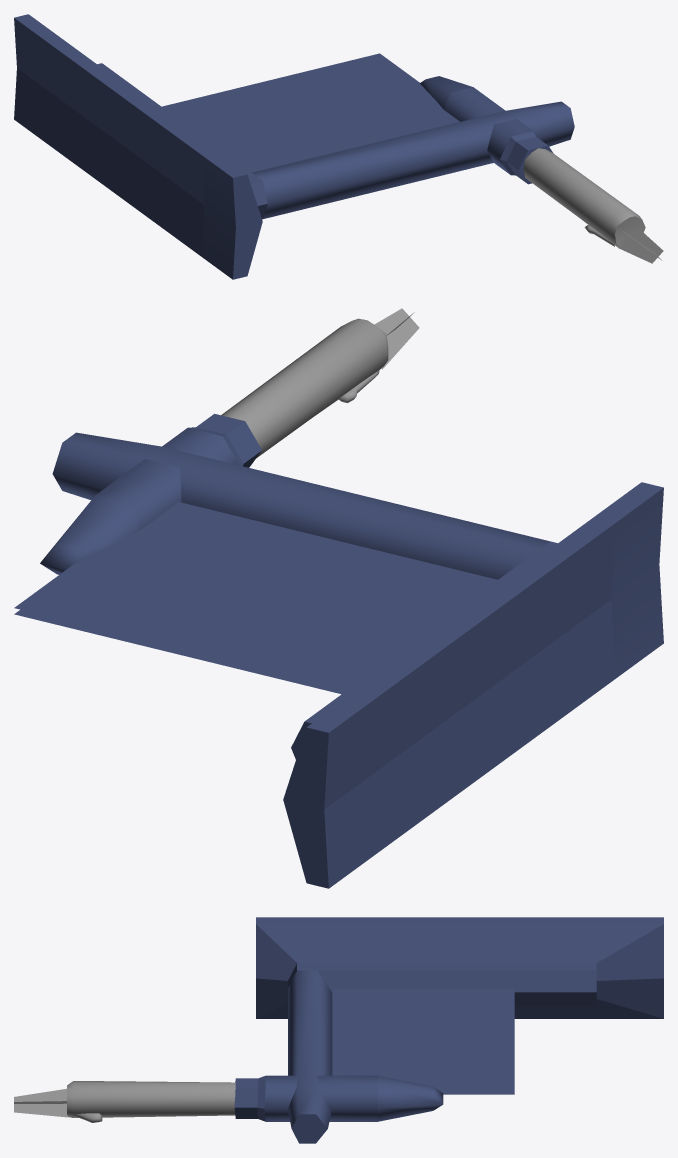
The model's file is Cath_lampBracket.fbx.
3 views of the same model, one above another, from view 1: azimuth 30°, elevation 25°; view 2: azimuth 150°, elevation 25°; view 3: azimuth 270°, elevation 25° (orthographic). The views are drawn at different scales.
Visible parts, largest first — view 1: Cath_lampBracket; view 2: Cath_lampBracket; view 3: Cath_lampBracket.
Boxes of the visible parts, x1,y1,x2,y2 form: Cath_lampBracket: (14,14,663,279); Cath_lampBracket: (14,308,663,888); Cath_lampBracket: (14,917,663,1143).
Bounding box in the file's own units: 63.22 × 106 × 17.05.
